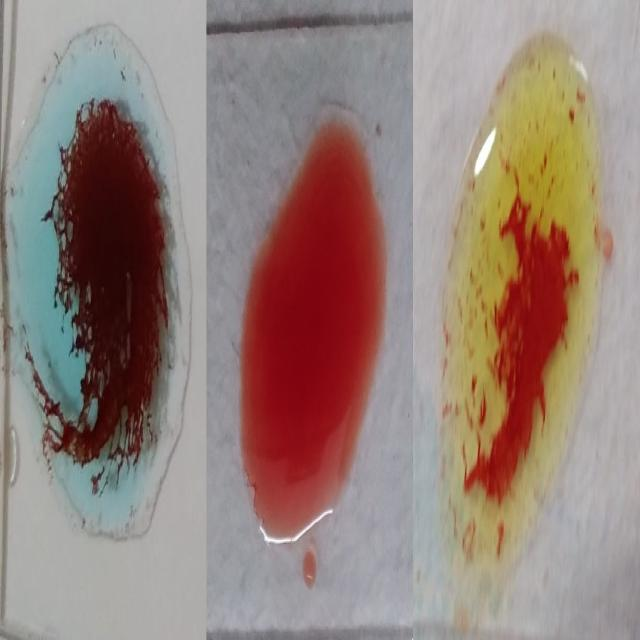A: (4, 26, 192, 541)
B: (440, 31, 604, 580)
